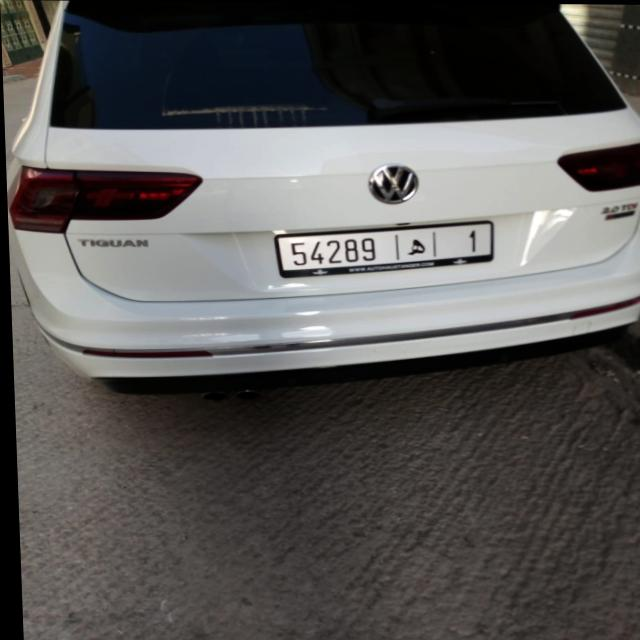License-Plate: (273, 220, 491, 277)
